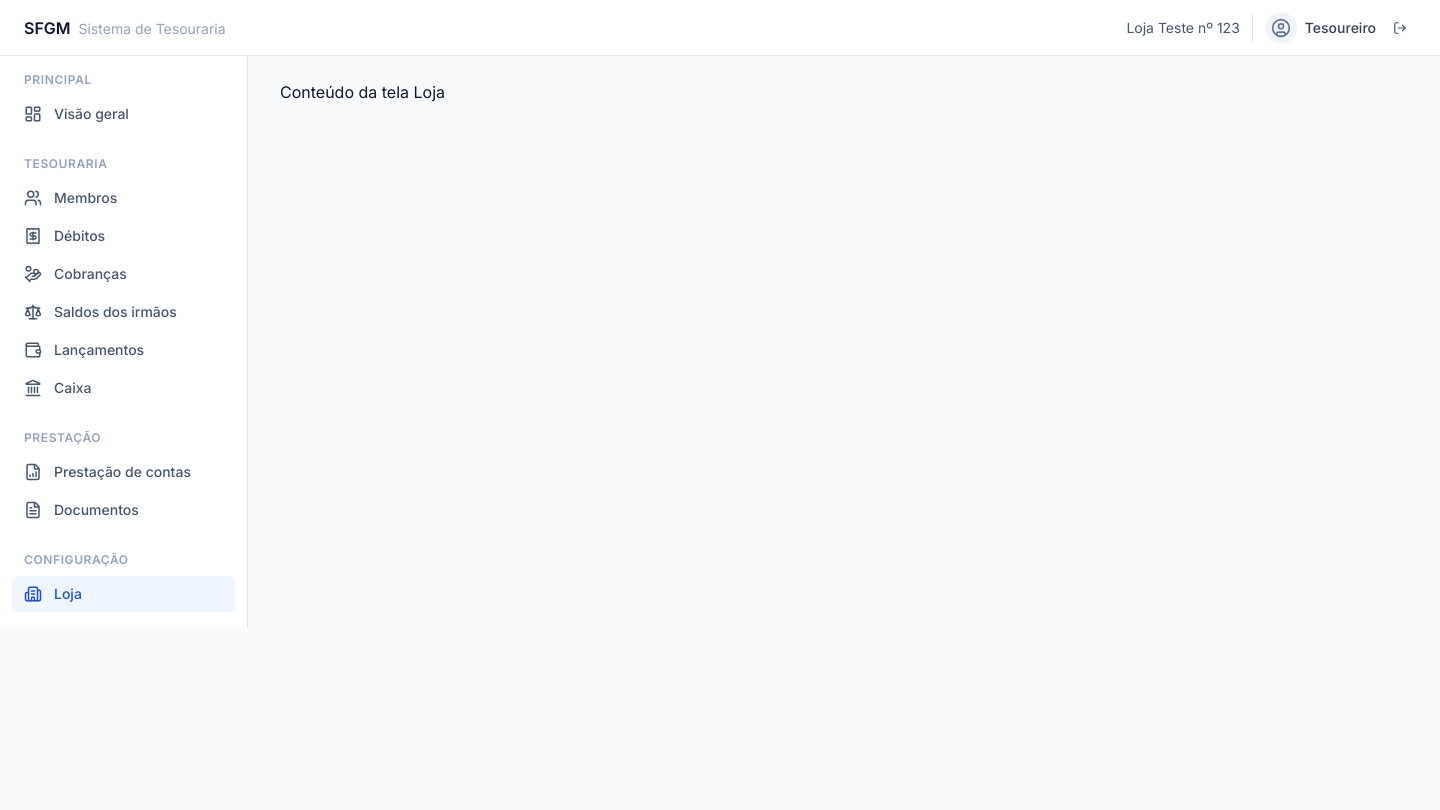
Test: Navegação principal (Sidebar + AppLayout) › navega da tela de Loja para a tela de Membros ao clicar no link da sidebar
expect the text "Sistema de Tesouraria" is shown: met, box [79, 18, 226, 38]
expect the text "Conteúdo da tela Loja" is shown: met, box [280, 82, 445, 102]
Click the link "Membros": [71, 198] box [24, 189, 117, 207]
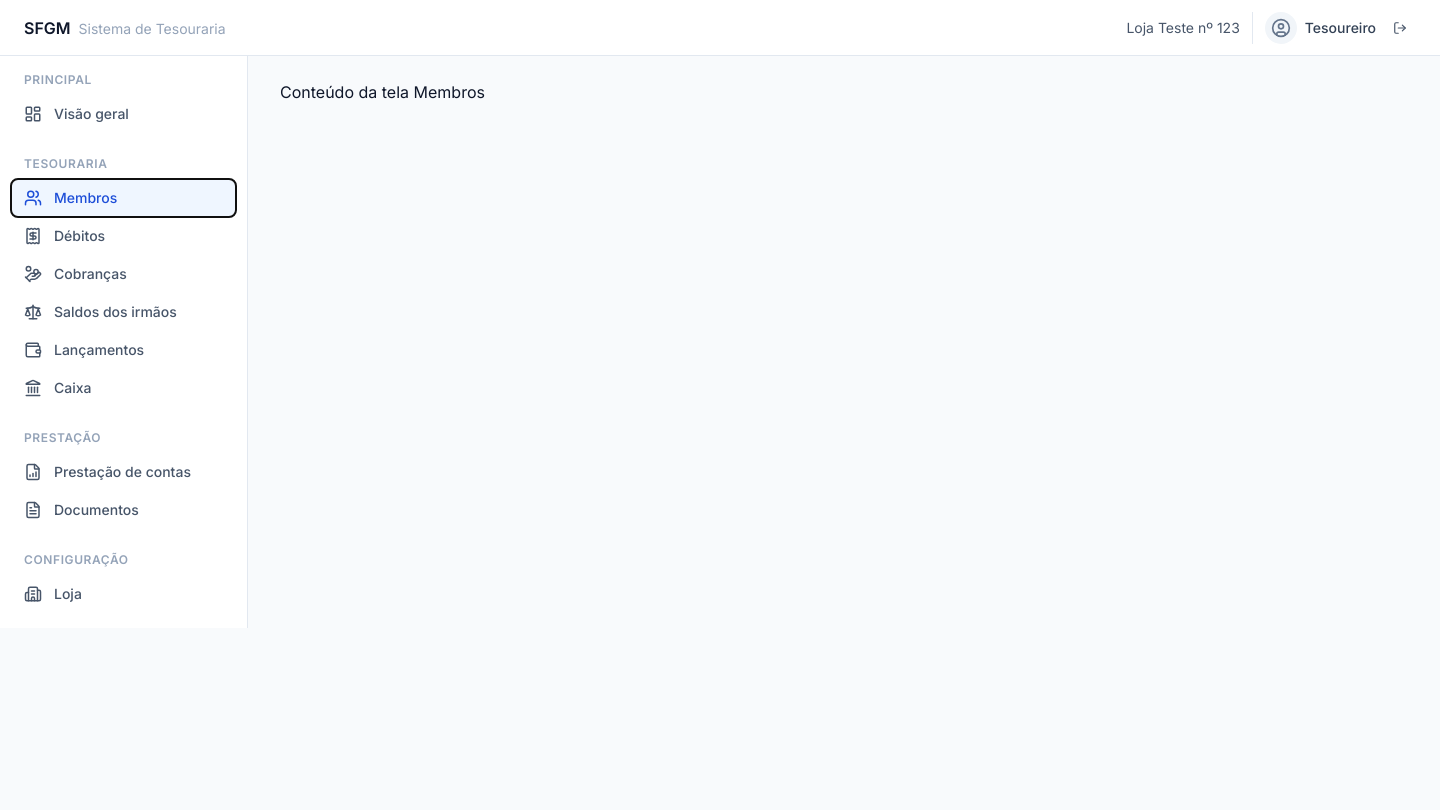
expect the text "Conteúdo da tela Membros" is shown: met, box [280, 82, 485, 102]
expect the text "Conteúdo da tela Loja" is gone: met
